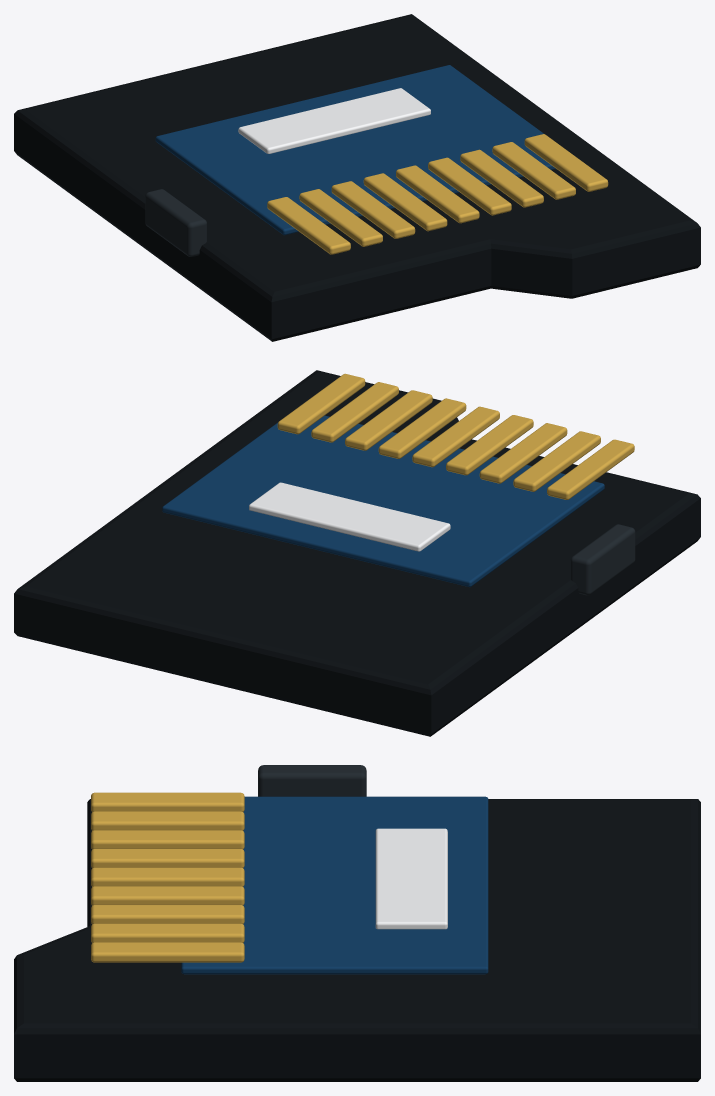
File: sd-memory-card.glb
3 views of the same model, one above another, from view 1: azimuth 30°, elevation 25°; view 2: azimuth 150°, elevation 25°; view 3: azimuth 270°, elevation 25° (orthographic). The views are drawn at different scales.
Visible parts, largest first — view 1: SD card shell, SDXC label, Gold contact (×9), Capacity label, Write-protect switch; view 2: SD card shell, SDXC label, Gold contact (×9), Capacity label, Write-protect switch; view 3: SD card shell, SDXC label, Gold contact (×9), Capacity label, Write-protect switch.
Boxes of the visible parts, x1=… form: SD card shell: x1=14, y1=14, x2=700, y2=341; SDXC label: x1=155, y1=65, x2=555, y2=235; Gold contact (×9): x1=267, y1=134, x2=608, y2=254; Capacity label: x1=238, y1=88, x2=430, y2=153; Write-protect switch: x1=145, y1=189, x2=206, y2=256; SD card shell: x1=14, y1=370, x2=700, y2=736; SDXC label: x1=162, y1=415, x2=604, y2=587; Gold contact (×9): x1=277, y1=373, x2=634, y2=499; Capacity label: x1=249, y1=482, x2=450, y2=551; Write-protect switch: x1=570, y1=524, x2=635, y2=595; SD card shell: x1=14, y1=799, x2=700, y2=1081; SDXC label: x1=181, y1=796, x2=488, y2=974; Gold contact (×9): x1=91, y1=792, x2=244, y2=962; Capacity label: x1=375, y1=828, x2=447, y2=929; Write-protect switch: x1=258, y1=765, x2=366, y2=796.
Bounding box in the file's own units: 1.25 × 0.2367 × 1.52.
